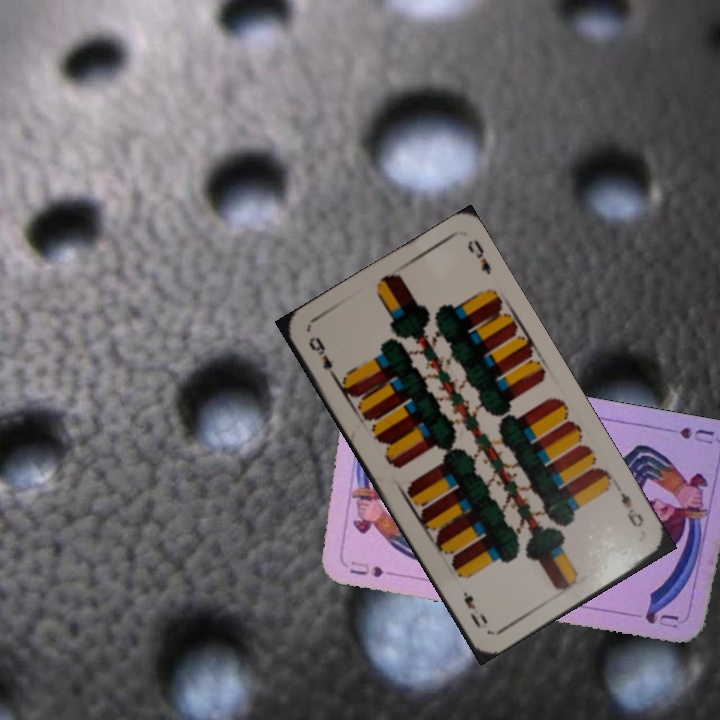E9: (304, 332, 340, 383), (616, 488, 647, 531)
SU: (658, 423, 718, 447), (345, 557, 386, 580)
